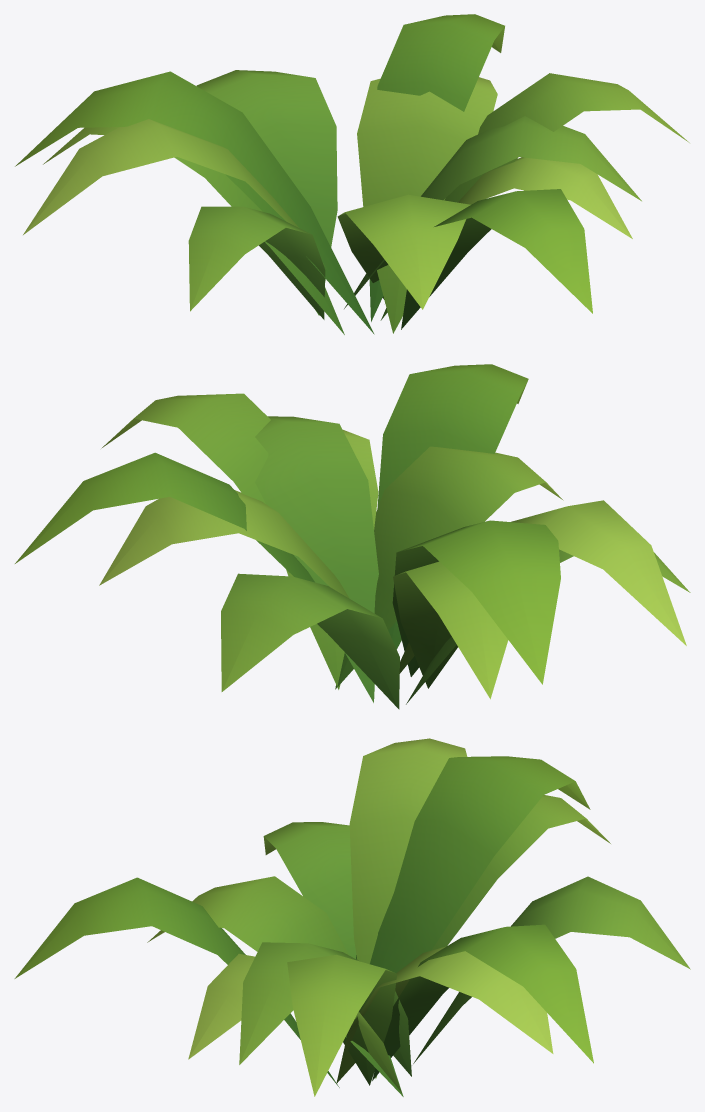
The model's file is Grass_Rosette_A.fbx.
3 renders of one model, top to bottom at view 1: azimuth 30°, elevation 25°; view 2: azimuth 150°, elevation 25°; view 3: azimuth 270°, elevation 25°, orthographic. The views are drawn at different scales.
Visible parts, largest first — view 1: Grass_Rosette_A; view 2: Grass_Rosette_A; view 3: Grass_Rosette_A.
Boxes of the visible parts, x1,y1,x2,y2 form: Grass_Rosette_A: (15, 14, 689, 334); Grass_Rosette_A: (15, 364, 690, 709); Grass_Rosette_A: (14, 738, 690, 1096).
Size of the model in its own units: 0.7979 by 0.2936 by 0.7442.
